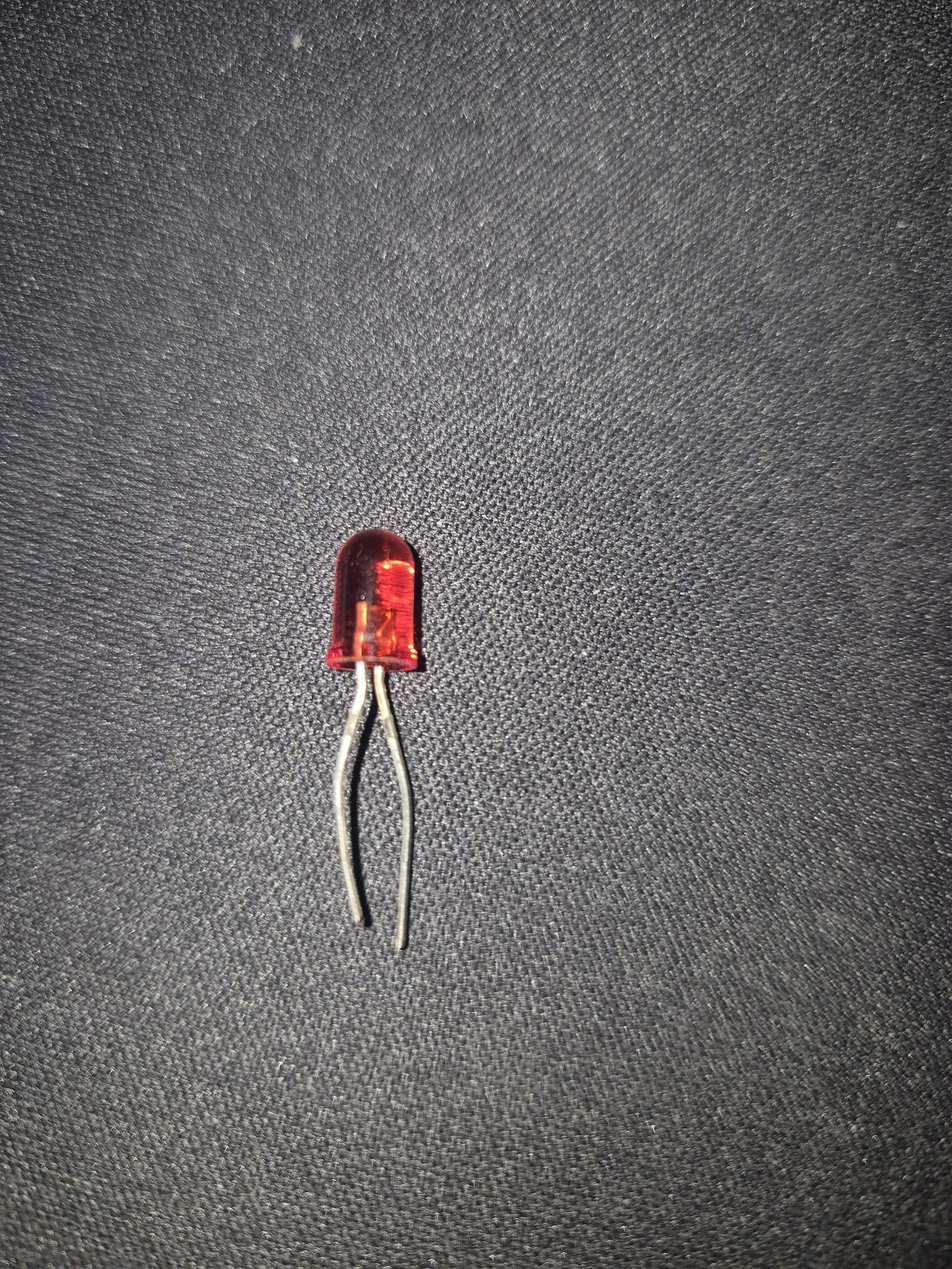led-diode: (324, 529, 433, 964)
